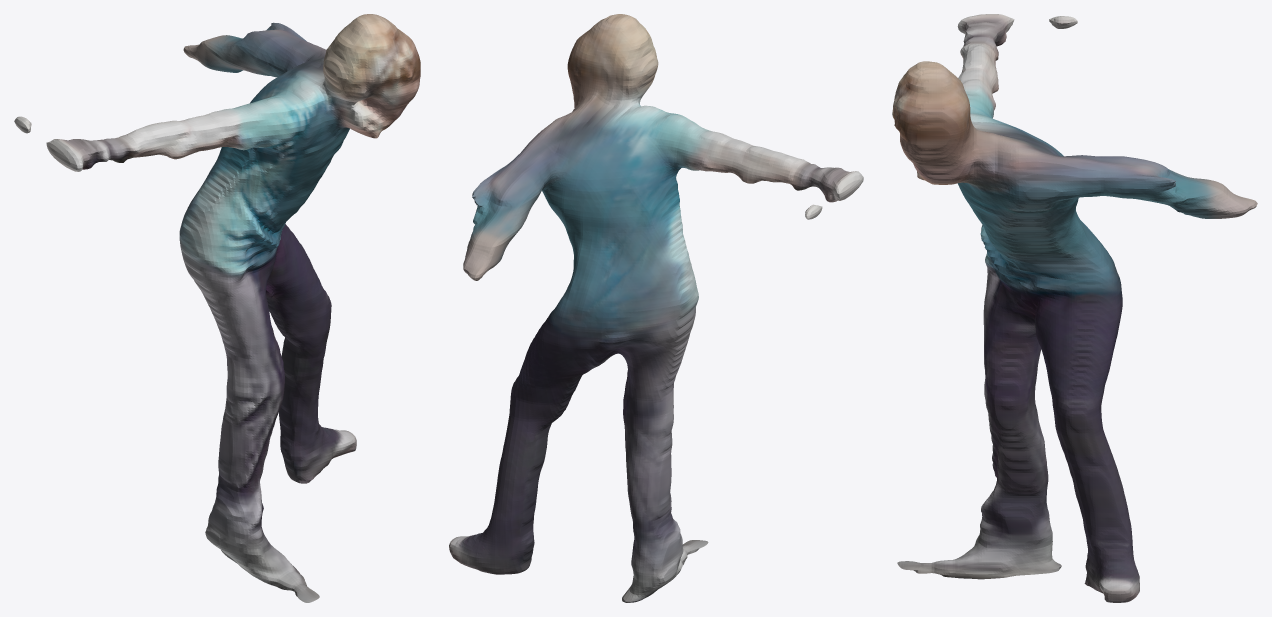
Rendered from 0023_tex.glb.
3 views of the same model, side by side, from view 1: azimuth 30°, elevation 25°; view 2: azimuth 150°, elevation 25°; view 3: azimuth 270°, elevation 25° (orthographic). The views are drawn at different scales.
Visible parts, largest first — view 1: 0023_tex.obj; view 2: 0023_tex.obj; view 3: 0023_tex.obj.
Boxes of the visible parts, bbox=[...] form: 0023_tex.obj: bbox=[14, 14, 420, 602]; 0023_tex.obj: bbox=[449, 14, 863, 602]; 0023_tex.obj: bbox=[892, 14, 1257, 602].
Bounding box in the file's own units: 0.5953 × 0.8805 × 0.5393.
